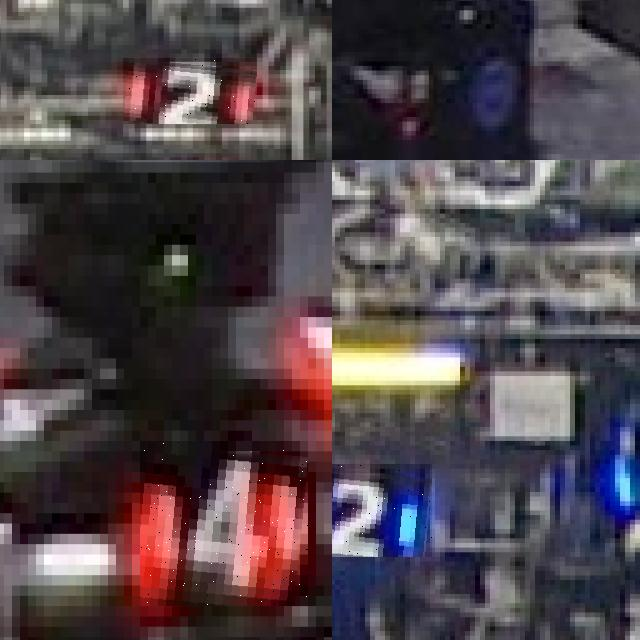B2: (332, 464, 432, 557)
R2: (123, 58, 257, 124)
R4: (140, 441, 308, 606), (0, 348, 100, 461)
